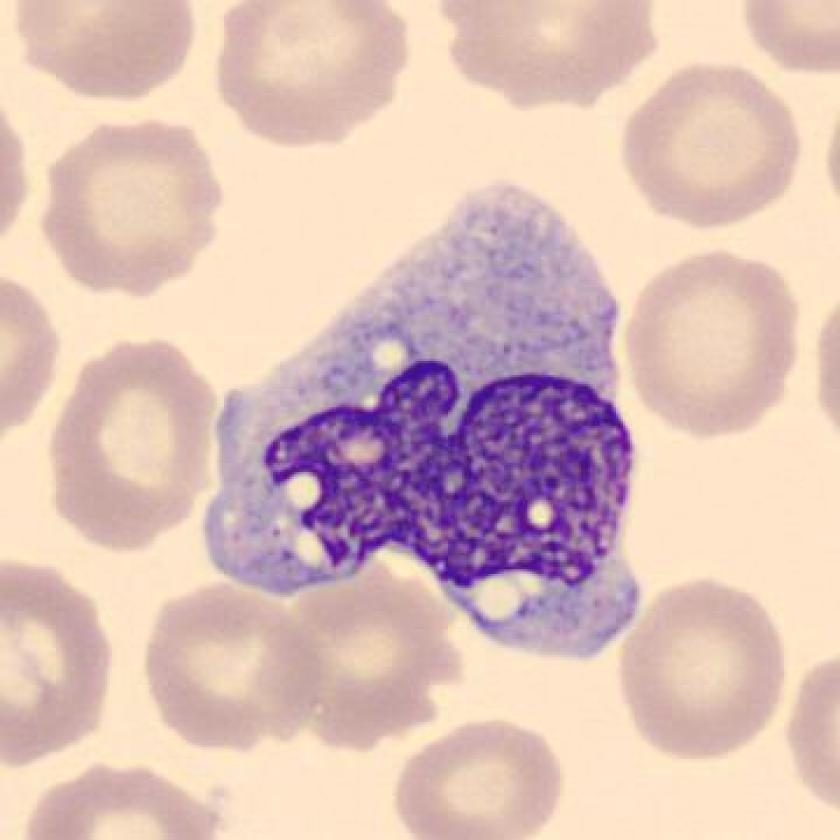monocyte: (192, 154, 659, 677)
